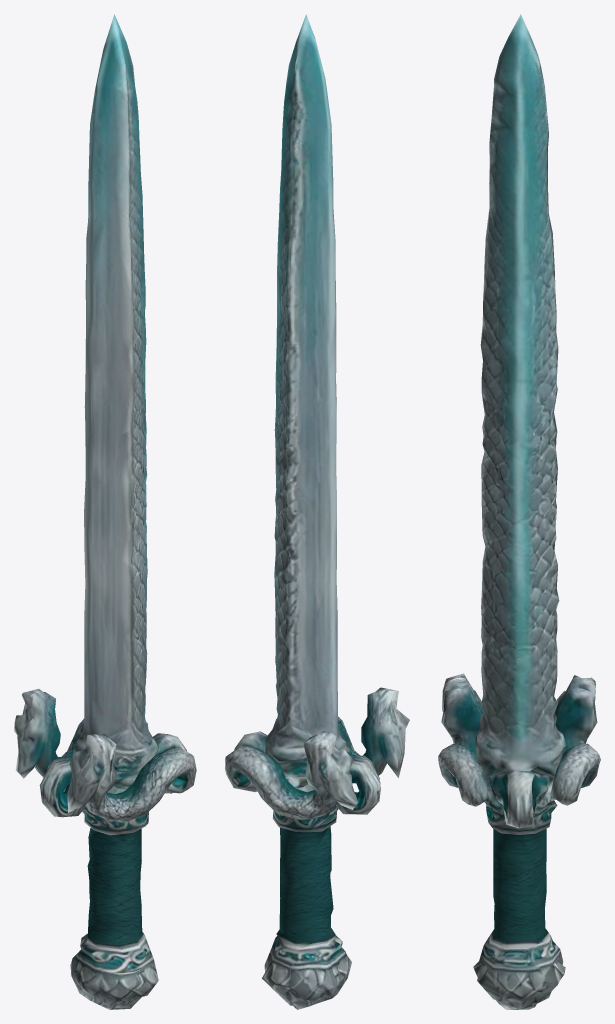
File: prop_kiem_han_giao.6f3c7cef27.glb
3 views of the same model, side by side, from view 1: azimuth 30°, elevation 25°; view 2: azimuth 150°, elevation 25°; view 3: azimuth 270°, elevation 25° (orthographic).
Parts seen in each view (by area): view 1: prop_kiem_han_giao; view 2: prop_kiem_han_giao; view 3: prop_kiem_han_giao.
Boxes of the visible parts, x1,y1,x2,y2 form: prop_kiem_han_giao: (14,14,196,1009); prop_kiem_han_giao: (225,14,409,1009); prop_kiem_han_giao: (438,14,600,1009).
Size of the model in its own units: 0.1464 by 0.95 by 0.1414.
1 material, 1 textured.
